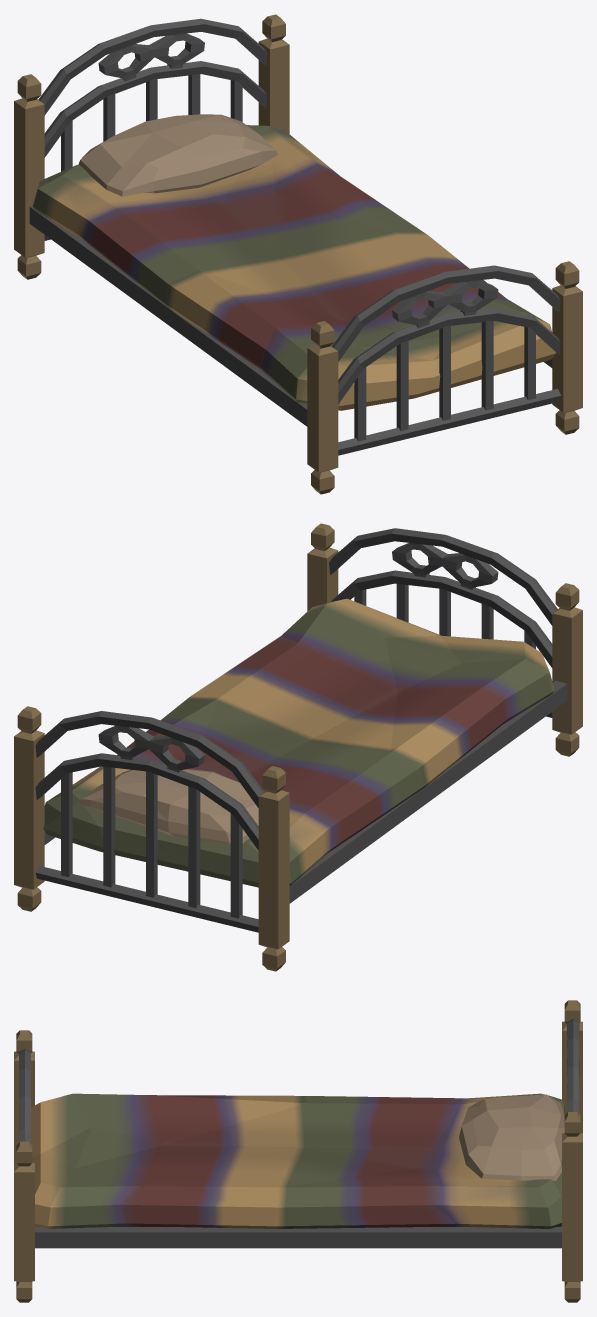
File: SM_Prop_Bed_Small_02.glb
3 renders of one model, top to bottom at view 1: azimuth 30°, elevation 25°; view 2: azimuth 150°, elevation 25°; view 3: azimuth 270°, elevation 25°, orthographic. The views are drawn at different scales.
Parts seen in each view (by area): view 1: SM_Prop_Bed_Small_02; view 2: SM_Prop_Bed_Small_02; view 3: SM_Prop_Bed_Small_02.
Boxes of the visible parts, x1,y1,x2,y2 form: SM_Prop_Bed_Small_02: (14,14,582,494); SM_Prop_Bed_Small_02: (14,523,582,971); SM_Prop_Bed_Small_02: (14,1000,582,1302).
Size of the model in its own units: 1.21 by 0.9709 by 2.42.
Materials: 1 (1 with a texture image).
